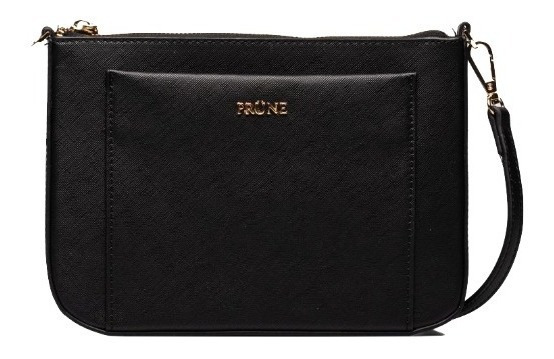cartera: (35, 18, 526, 340)
